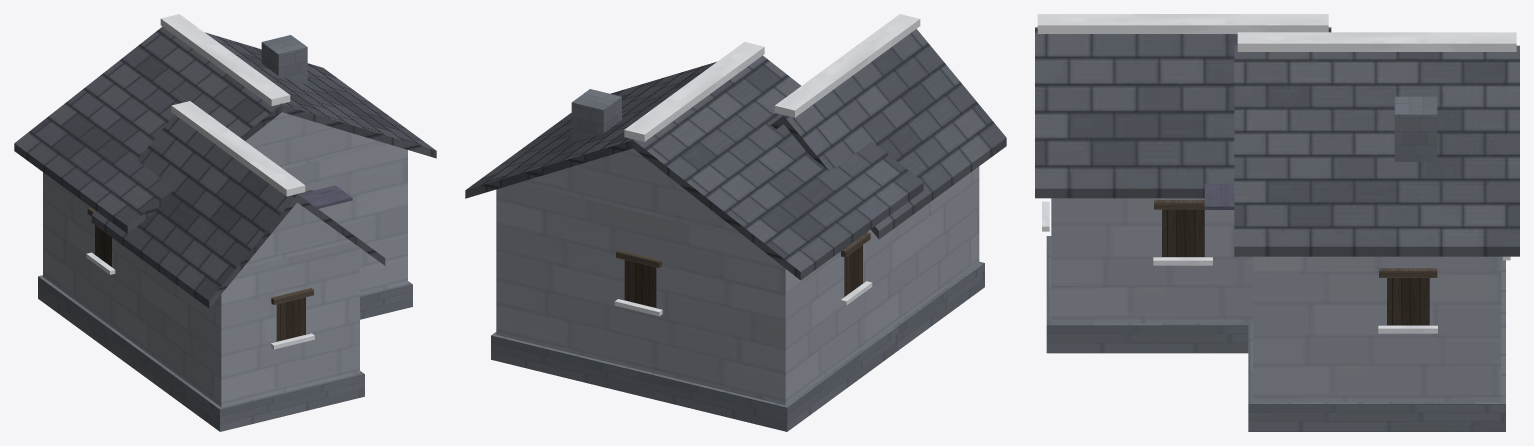
The model's file is ae_snow_stone_medium_court_lod1.glb.
3 renders of one model, left to right at view 1: azimuth 30°, elevation 25°; view 2: azimuth 150°, elevation 25°; view 3: azimuth 270°, elevation 25°, orthographic. The views are drawn at different scales.
Visible parts, largest first — view 1: ae_snow_stone_medium_court_lod1; view 2: ae_snow_stone_medium_court_lod1; view 3: ae_snow_stone_medium_court_lod1.
Boxes of the visible parts, x1,y1,x2,y2 form: ae_snow_stone_medium_court_lod1: (14,14,436,431); ae_snow_stone_medium_court_lod1: (465,14,1006,431); ae_snow_stone_medium_court_lod1: (1035,14,1519,431).
Bounding box in the file's own units: 5.8 × 4.41 × 6.25.
1 material, 1 textured.
